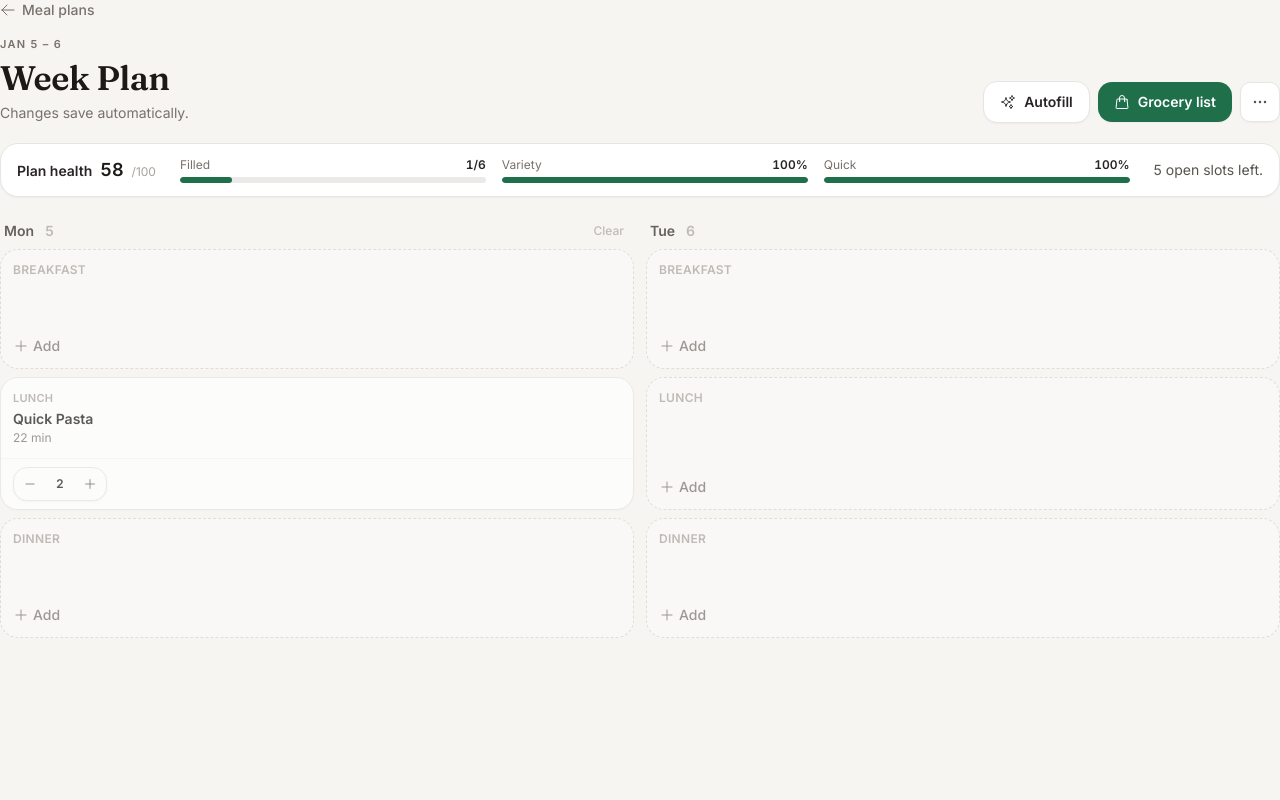
MealPlanDetailPage › autosaving slots › clears a slot from the picker and rolls back when the save fails
The image size is (1280, 800).
Click the button with aria-label "Change lunch on monday: Quick Pasta" at (33,398), box x1=1 y1=378 x2=633 y2=458
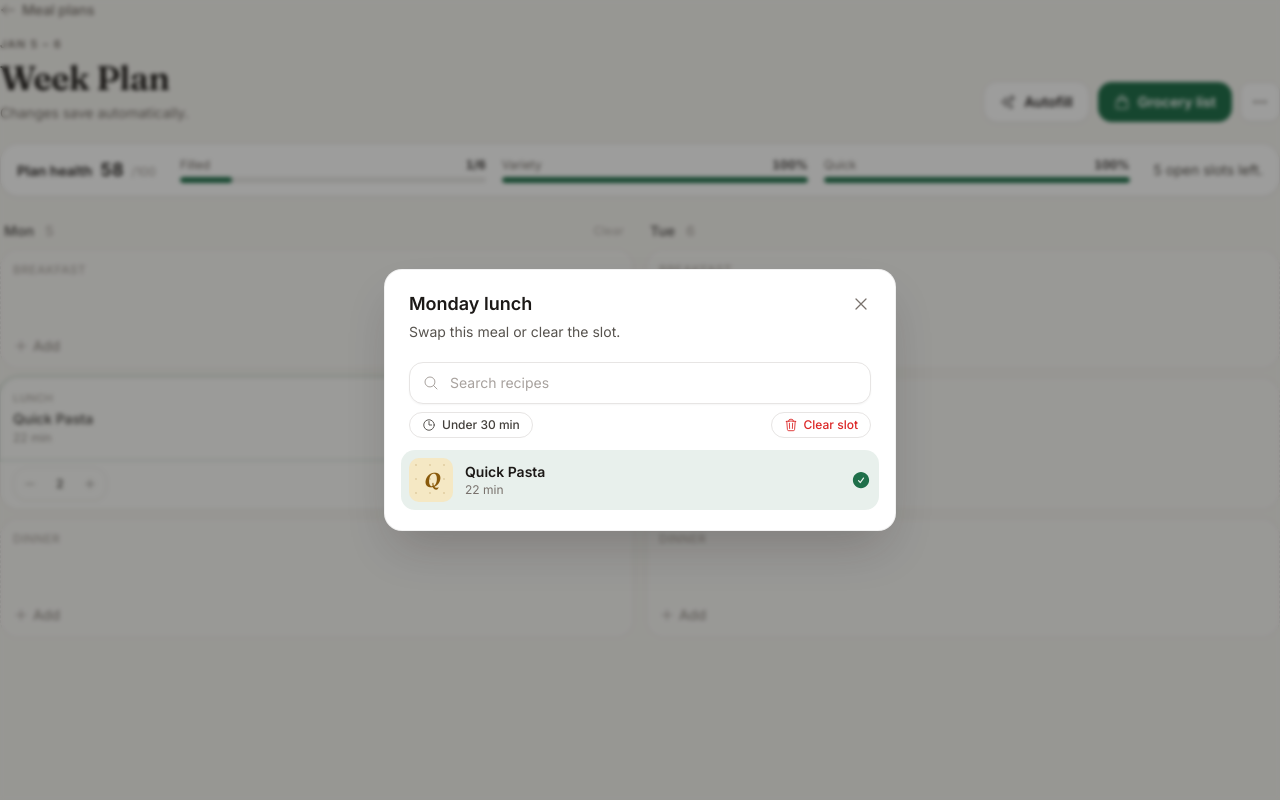
Click the button "Clear slot" at (821,425), box x1=770 y1=412 x2=871 y2=438
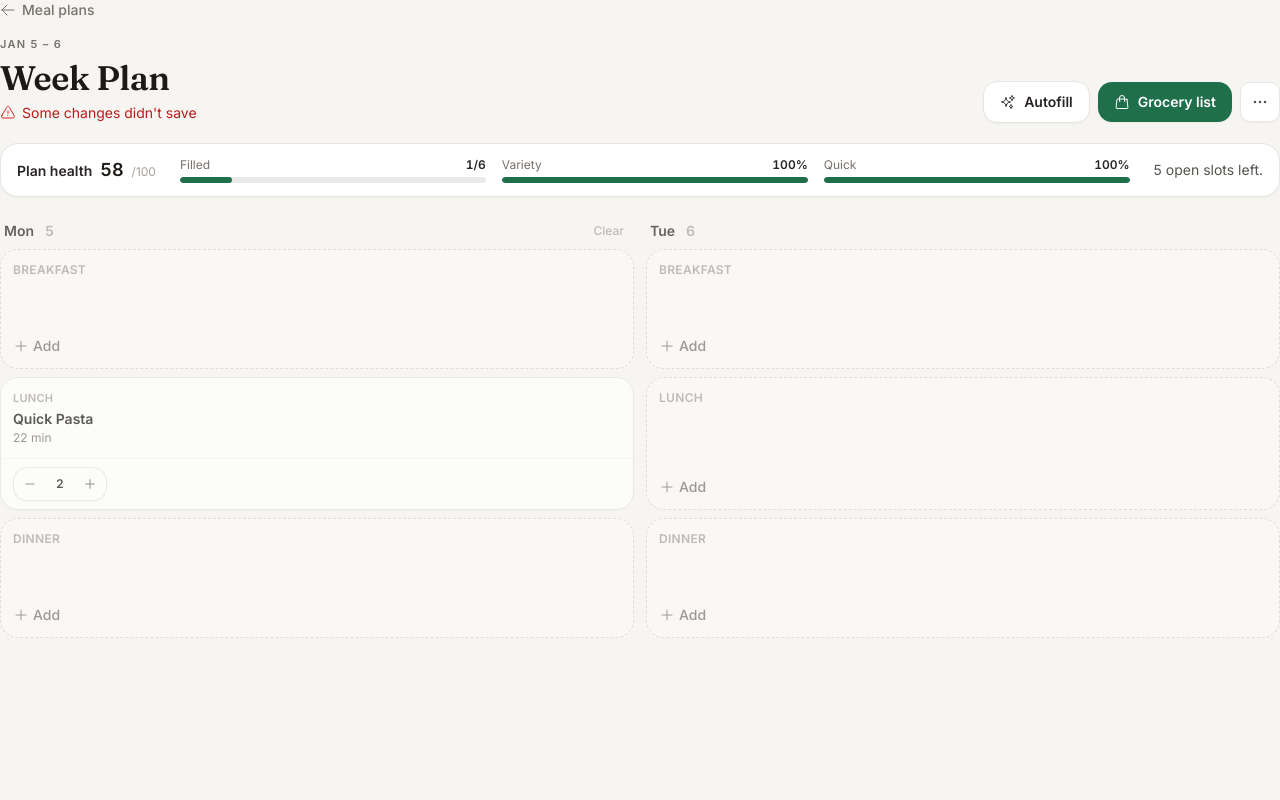
Expected: the button with aria-label "Change lunch on monday: Quick Pasta" is shown, x1=1 y1=378 x2=633 y2=458
Expected: the text "Some changes didn't save" is shown, x1=22 y1=103 x2=197 y2=123
